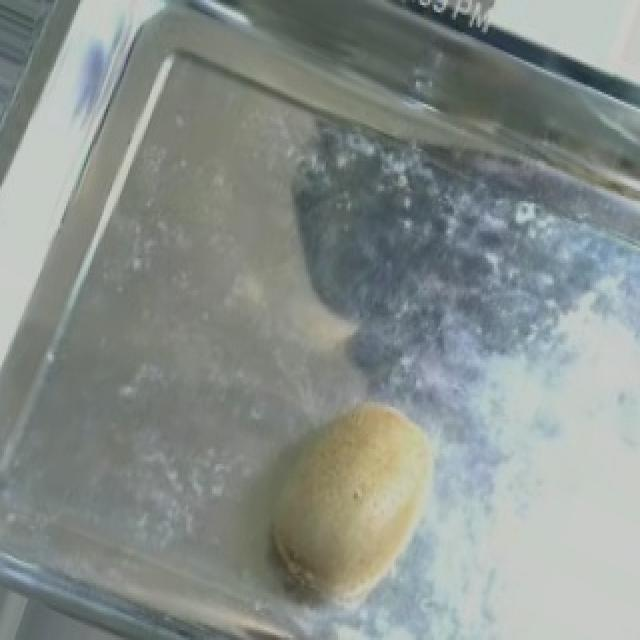Fruit: (226, 367, 462, 633)
